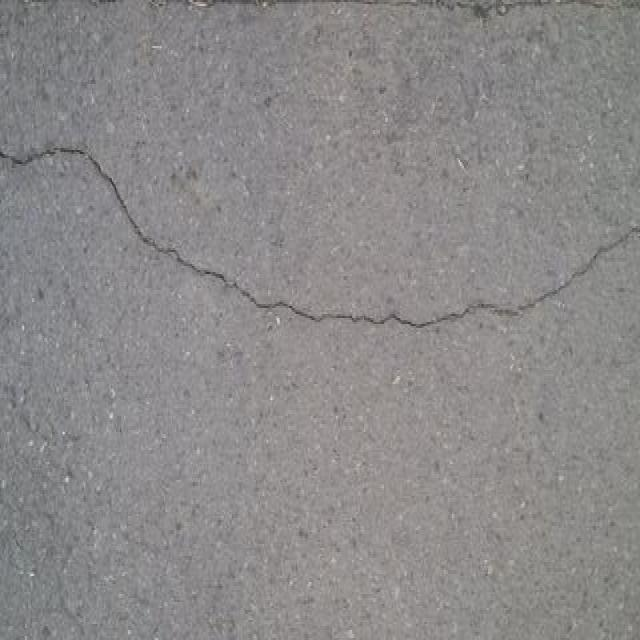Crack: (0, 137, 639, 331), (6, 1, 638, 188), (77, 148, 286, 310), (9, 142, 172, 256), (112, 0, 636, 16), (5, 140, 91, 170)
